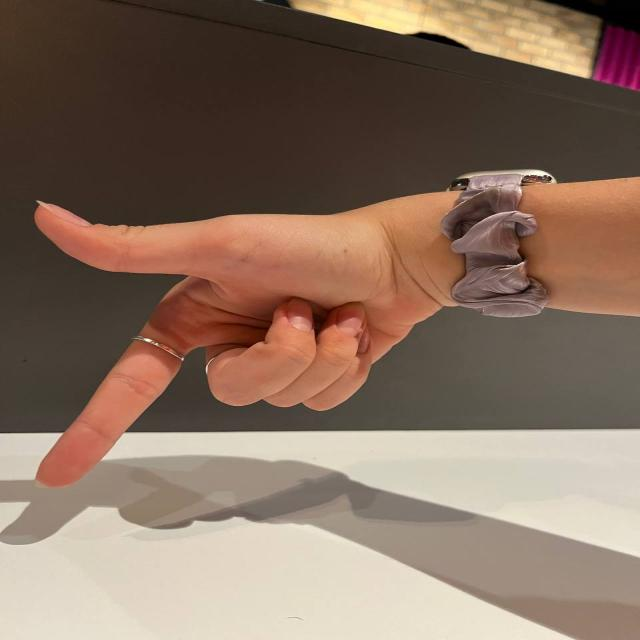g: (22, 175, 420, 507)
